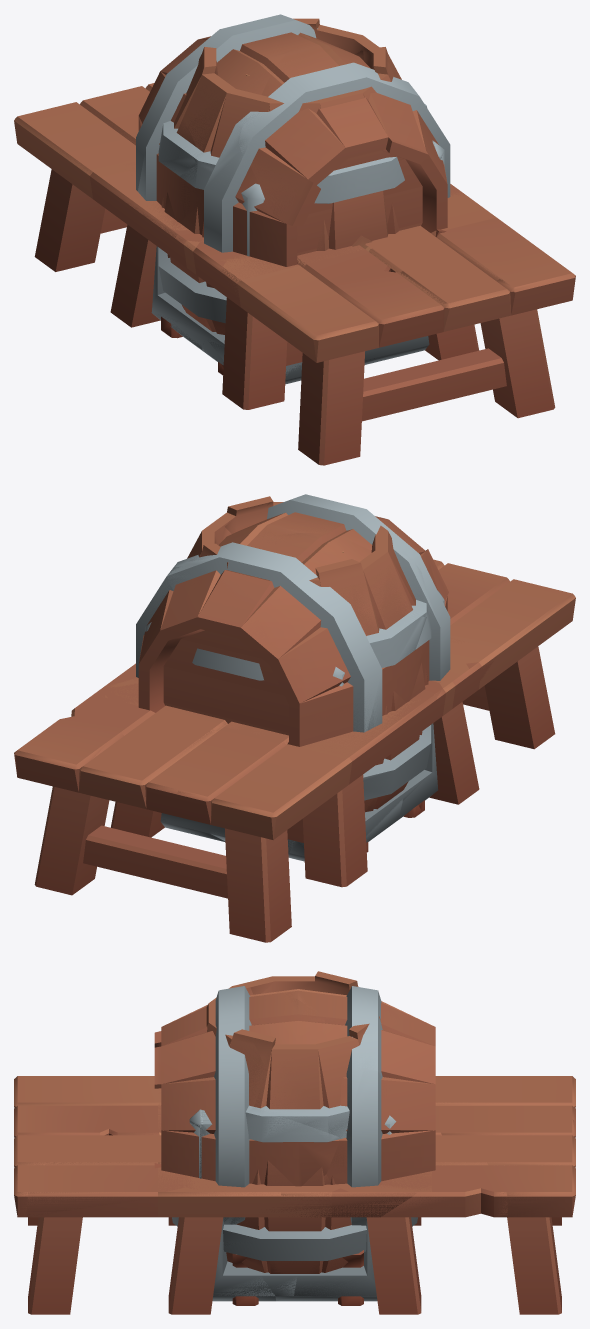
Rendered from props.glb.
3 renders of one model, top to bottom at view 1: azimuth 30°, elevation 25°; view 2: azimuth 150°, elevation 25°; view 3: azimuth 270°, elevation 25°, orthographic. The views are drawn at different scales.
Parts seen in each view (by area): view 1: F_keg_8, F_table_long_8, P_table_long, P_keg, F_table_long_4, F_table_long_7, F_keg_5, F_table_2, F_table_long_0, P_barrel, F_barrel_6, F_keg_2 (+17 smaller); view 2: P_keg, F_keg_5, P_table_long, F_table_long_8, F_table_long_7, F_table_long_6, F_keg_6, F_table_long_5, F_table_long_9, F_table_10, P_barrel, P_table (+16 smaller); view 3: P_table_long, F_keg_8, F_table_long_4, P_keg, F_barrel_2, F_keg_0, F_table_long_5, P_table, F_barrel_4, F_table_long_8, P_barrel, F_table_long_10 (+20 smaller).
Part boxes in pixels (left/top/right/bottom): F_keg_8: left=238, top=37, right=450, bottom=251; F_table_long_8: left=183, top=240, right=450, bottom=465; P_table_long: left=14, top=83, right=574, bottom=455; P_keg: left=136, top=17, right=450, bottom=261; F_table_long_4: left=187, top=185, right=566, bottom=362; F_table_long_7: left=14, top=93, right=173, bottom=228; F_keg_5: left=136, top=14, right=318, bottom=222; F_table_2: left=175, top=231, right=398, bottom=409; F_table_long_0: left=351, top=267, right=524, bottom=395; P_barrel: left=159, top=19, right=426, bottom=334; F_barrel_6: left=299, top=58, right=404, bottom=250; F_keg_2: left=192, top=144, right=311, bottom=369; P_keg: left=136, top=495, right=449, bottom=817; F_keg_5: left=185, top=533, right=431, bottom=733; P_table_long: left=19, top=559, right=533, bottom=941; F_table_long_8: left=438, top=561, right=575, bottom=749; F_table_long_7: left=176, top=703, right=410, bottom=875; F_table_long_6: left=71, top=730, right=265, bottom=895; F_keg_6: left=152, top=563, right=305, bottom=744; F_table_long_5: left=14, top=726, right=117, bottom=895; F_table_long_9: left=139, top=843, right=291, bottom=942; F_table_10: left=225, top=693, right=437, bottom=875; P_barrel: left=203, top=497, right=431, bottom=811; P_table: left=112, top=684, right=445, bottom=886; P_table_long: left=14, top=1076, right=575, bottom=1314; F_keg_8: left=154, top=986, right=363, bottom=1224; F_table_long_4: left=27, top=1112, right=223, bottom=1287; P_keg: left=154, top=991, right=435, bottom=1224; F_barrel_2: left=223, top=1107, right=366, bottom=1273; F_keg_0: left=327, top=1067, right=435, bottom=1225; F_table_long_5: left=492, top=1164, right=575, bottom=1314; P_table: left=158, top=1106, right=431, bottom=1314; F_barrel_4: left=253, top=1003, right=381, bottom=1137; F_table_long_8: left=14, top=1076, right=161, bottom=1225; P_barrel: left=172, top=977, right=348, bottom=1273; F_table_long_10: left=381, top=1134, right=507, bottom=1217.
Size of the model in its own units: 2 by 2.05 by 4.
Materials: 21 (18 with a texture image).
